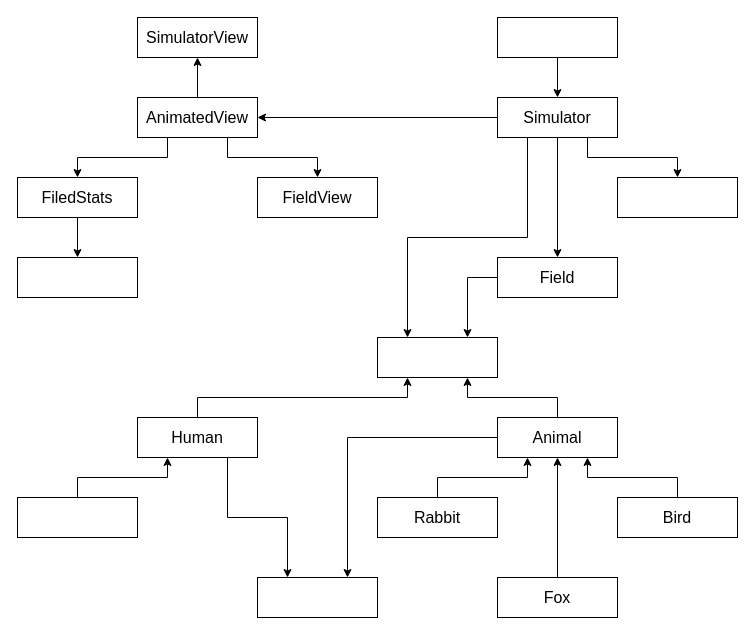
Image size: 755x635. Some labels were removed from this diagram. The centre of each missing label's shape, as x and y in pixels:
"Actor" goes at point (437, 357).
"Counter" goes at point (77, 277).
"Grass" goes at point (677, 197).
"GUI" goes at point (557, 37).
"Hunter" goes at point (77, 517).
"Location" goes at point (317, 597).
